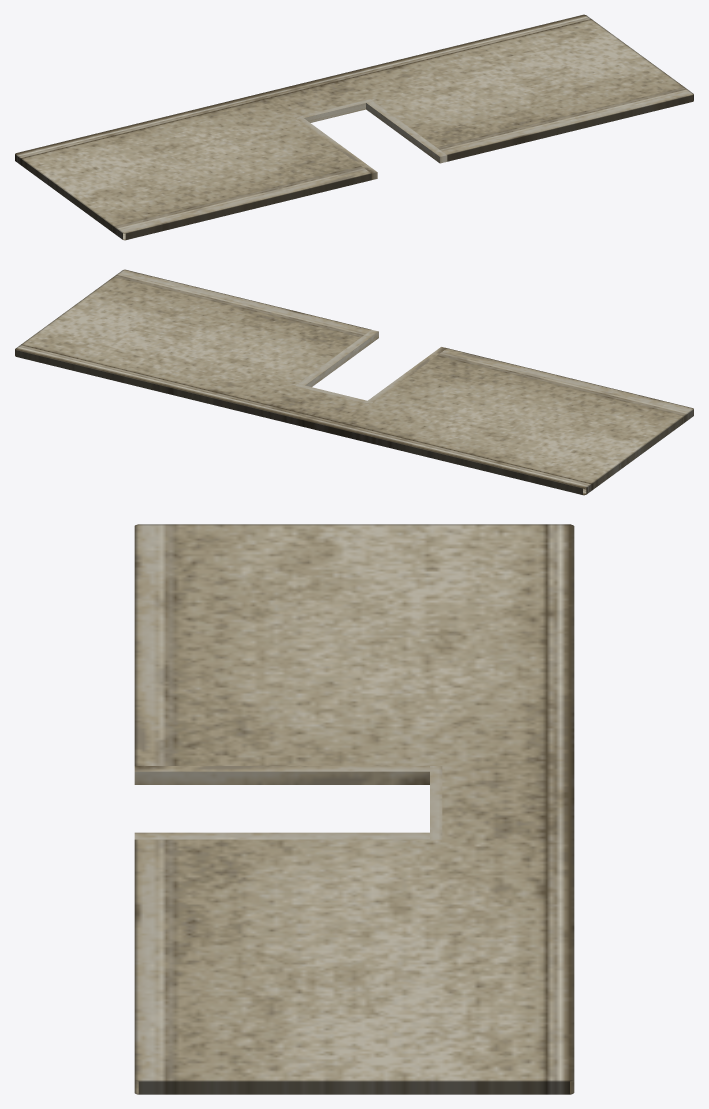
File: SM_EC_House_Wall_DoorWay_9x3_0.fbx
3 renders of one model, top to bottom at view 1: azimuth 30°, elevation 25°; view 2: azimuth 150°, elevation 25°; view 3: azimuth 270°, elevation 25°, orthographic. The views are drawn at different scales.
Parts seen in each view (by area): view 1: SM_EC_House_Wall_DoorWay_9x3_0; view 2: SM_EC_House_Wall_DoorWay_9x3_0; view 3: SM_EC_House_Wall_DoorWay_9x3_0.
Part boxes in pixels (bbox=[...]): SM_EC_House_Wall_DoorWay_9x3_0: bbox=[15, 14, 693, 240]; SM_EC_House_Wall_DoorWay_9x3_0: bbox=[15, 269, 693, 495]; SM_EC_House_Wall_DoorWay_9x3_0: bbox=[134, 524, 574, 1094].
Bounding box in the file's own units: 9 × 3 × 0.1.
